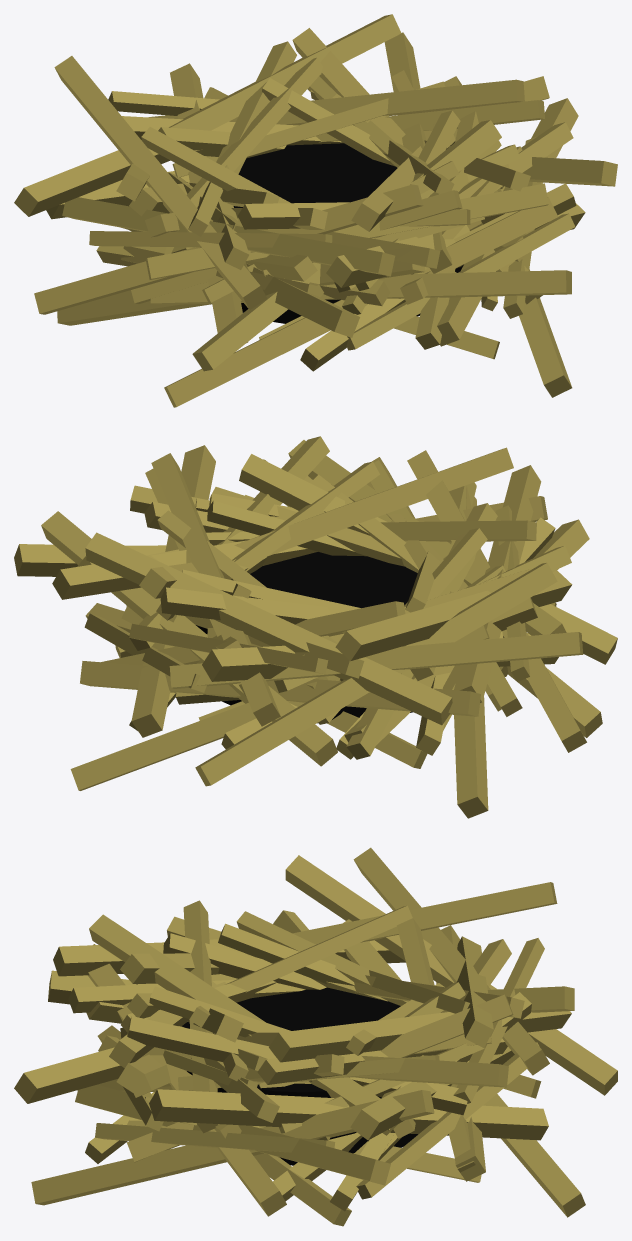
The model's file is rabbit_nest.glb.
3 views of the same model, one above another, from view 1: azimuth 30°, elevation 25°; view 2: azimuth 150°, elevation 25°; view 3: azimuth 270°, elevation 25° (orthographic).
Visible parts, largest first — view 1: Cube.001, Cube; view 2: Cube.001, Cube; view 3: Cube.001, Cube.
Boxes of the visible parts, bbox=[...] form: Cube.001: bbox=[14, 14, 617, 407]; Cube: bbox=[233, 143, 463, 323]; Cube.001: bbox=[14, 436, 617, 818]; Cube: bbox=[196, 552, 417, 723]; Cube.001: bbox=[14, 847, 617, 1226]; Cube: bbox=[182, 987, 417, 1165].
Size of the model in its own units: 3 by 1.09 by 2.8.
